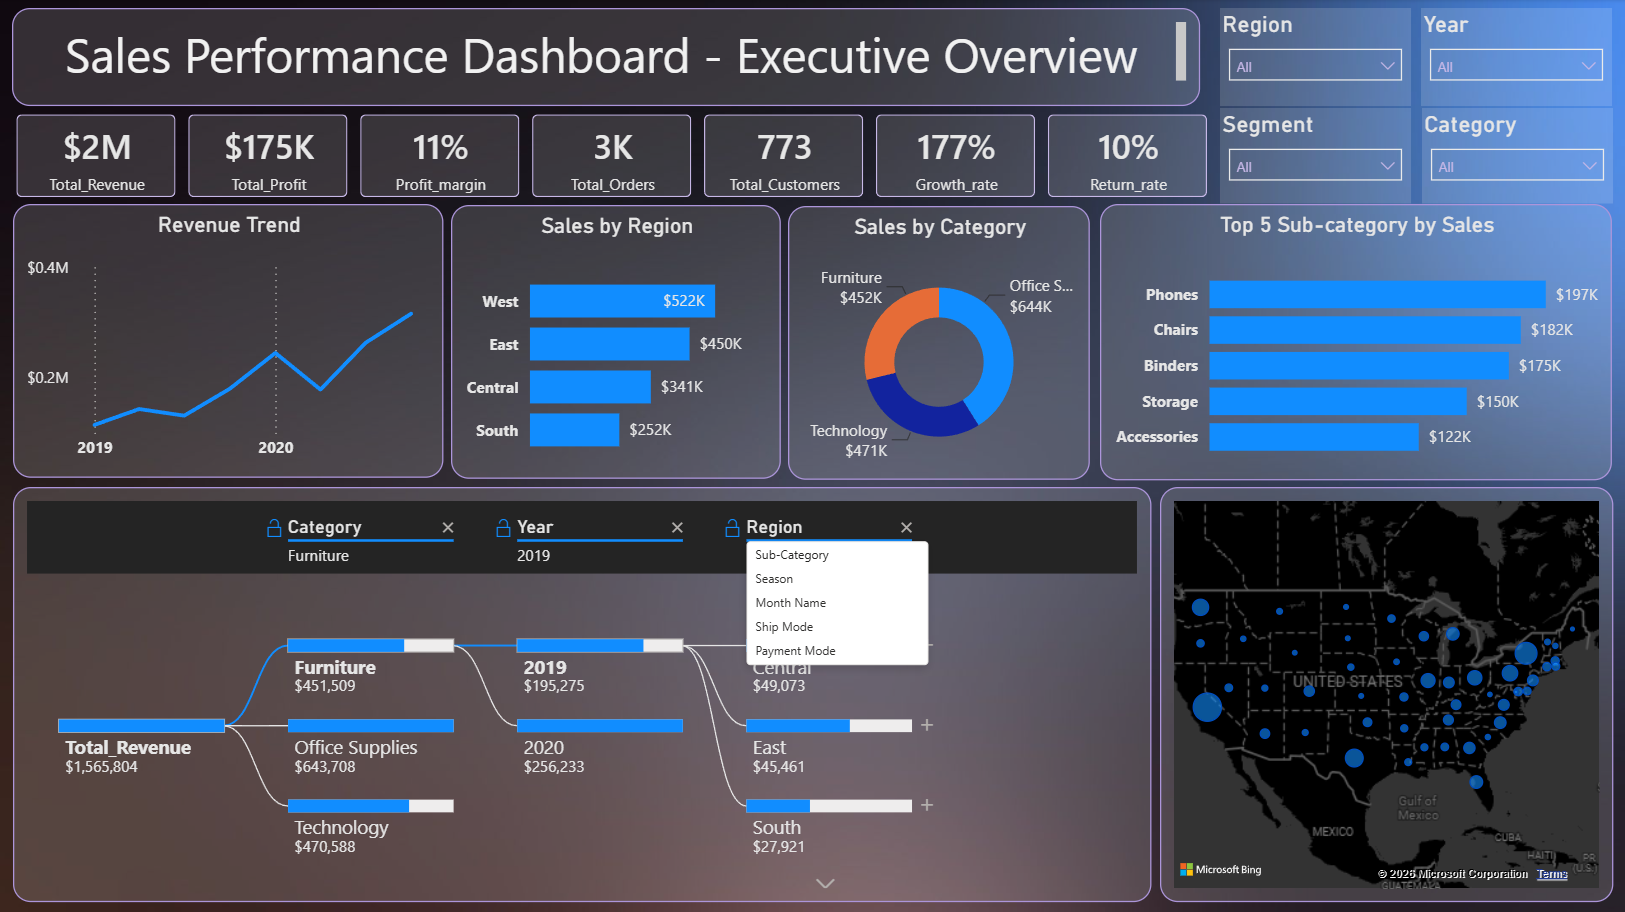

The page's visual inventory and layout, read from the dashboard file:
{"tool":"powerbi","page":{"name":"Executive Overview","canvas":[1280,720],"ordinal":2},"visuals":[{"type":"slicer","title":"Year","fields":{"Values":["DimDate.Order Year"]},"box":[1117.4,7.1,150,77],"z":0},{"type":"donutChart","title":"Sales by Category","fields":{"Y":["Measurements.Total_Revenue"],"Category":["DimProduct.Category"]},"box":[620.4,162.6,237.2,215.2],"z":1000},{"type":"cardVisual","fields":{"Data":["Measurements.Total_Revenue","Measurements.Total_Profit","Measurements.Profit_margin","Measurements.Total_Orders","Measurements.Total_Customers","Measurements.Growth_rate","Measurements.Return_rate"]},"box":[9.4,85.6,950.2,75.4],"z":2000},{"type":"textbox","box":[11,6.9,933.2,77.1],"z":3000},{"type":"lineChart","title":"Revenue Trend","fields":{"Y":["Sum(FactSales.Sales)"],"Category":["FactSales.Order Date.Variation.Date Hierarchy.Year","FactSales.Order Date.Variation.Date Hierarchy.Quarter","FactSales.Order Date.Variation.Date Hierarchy.Month"]},"box":[11.8,161,337.7,215.2],"z":4000},{"type":"map","fields":{"Category":["SuperStore_Sales_Dataset.State"],"Size":["Sum(SuperStore_Sales_Dataset.Sales)"]},"box":[912.5,383.2,355.7,325.9],"z":5000},{"type":"slicer","title":"Category","fields":{"Values":["DimProduct.Category"]},"box":[1118.2,85.6,150,75.4],"z":6000},{"type":"slicer","title":"Segment","fields":{"Values":["DimCustomer.Segment"]},"box":[959.6,85.6,150,75.4],"z":7000},{"type":"slicer","title":"Region","fields":{"Values":["FactSales.Region"]},"box":[959.6,7.1,150,77],"z":8000},{"type":"clusteredBarChart","title":"Sales by Region","fields":{"Category":["FactSales.Region"],"Y":["Measurements.Total_Revenue"]},"box":[355.7,161.8,259.1,215.2],"z":9000},{"type":"clusteredBarChart","title":"Top 5 Sub-category by Sales","fields":{"Y":["Measurements.Total_Revenue"],"Category":["DimProduct.Sub-Category"]},"box":[865.4,161,402.1,216.7],"z":10000},{"type":"decompositionTreeVisual","title":"Top 5 Products sub-category","fields":{"ExplainBy":["DimProduct.Category","DimDate.Order Year","FactSales.Region","DimDate.Season","DimDate.Month Name","FactSales.Payment Mode","DimProduct.Sub-Category","FactSales.Ship Mode"],"Analyze":["Measurements.Total_Revenue"]},"box":[11.8,383.2,893.6,325.9],"z":11000}]}

Visuals, with their boxes in screenshot pixels (x1, y1, x2, y2), scaled from the page's 1280x720 canvas onto the 1625x912 screenshot:
"Year" slicer: select_region(1419, 9, 1609, 107)
"Sales by Category" donutChart: select_region(788, 206, 1089, 479)
cardVisual - Measurements.Total_Revenue x Measurements.Total_Profit: select_region(12, 108, 1218, 204)
textbox: select_region(14, 9, 1199, 106)
"Revenue Trend" lineChart: select_region(15, 204, 444, 477)
map - SuperStore_Sales_Dataset.State x Sum(SuperStore_Sales_Dataset.Sales): select_region(1158, 485, 1610, 898)
"Category" slicer: select_region(1420, 108, 1610, 204)
"Segment" slicer: select_region(1218, 108, 1409, 204)
"Region" slicer: select_region(1218, 9, 1409, 107)
"Sales by Region" clusteredBarChart: select_region(452, 205, 781, 478)
"Top 5 Sub-category by Sales" clusteredBarChart: select_region(1099, 204, 1609, 478)
"Top 5 Products sub-category" decompositionTreeVisual: select_region(15, 485, 1149, 898)
